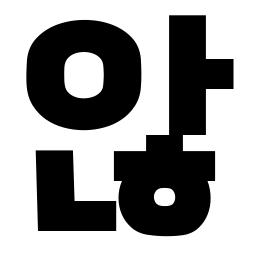Gaji: (159, 47, 218, 107)
